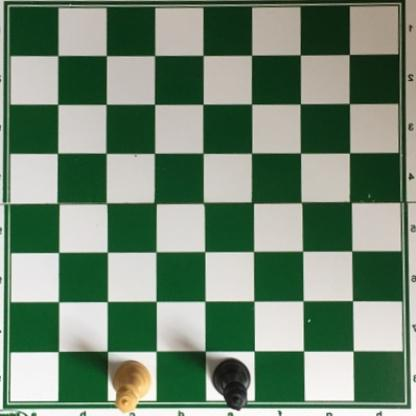black-queen: (211, 358, 253, 411)
white-queen: (112, 360, 154, 415)
